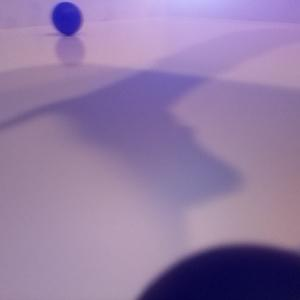dead_ball: (132, 247, 300, 300), (51, 2, 82, 35)
